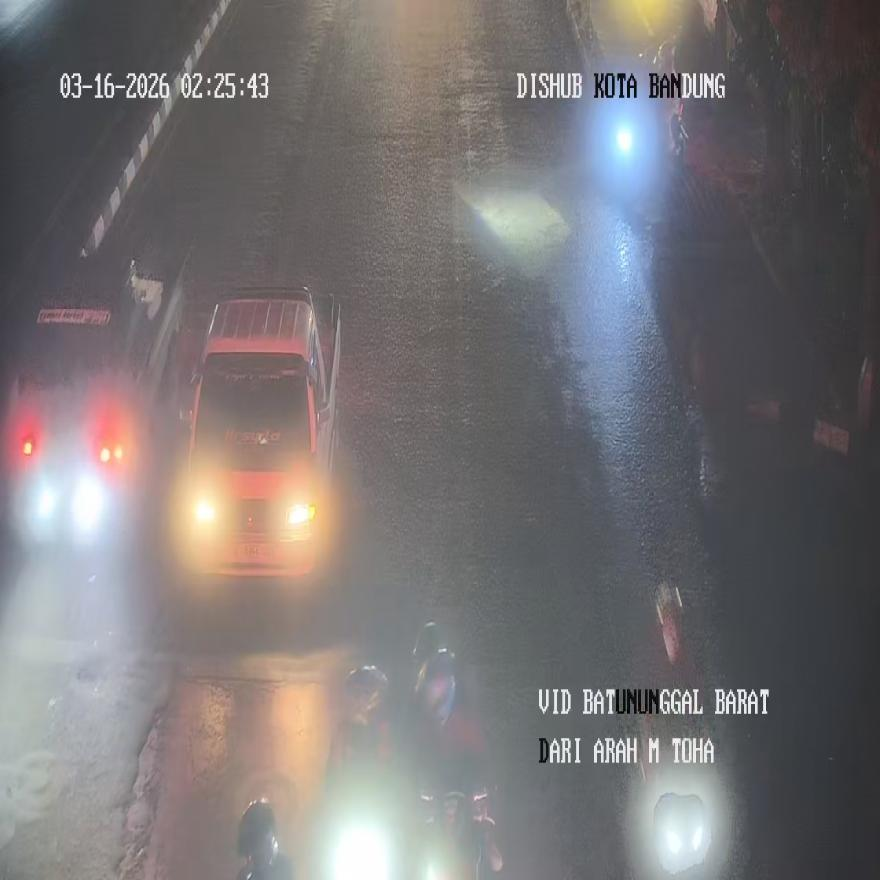Motor: (2, 240, 191, 548), (174, 285, 340, 589)
Truk: (649, 771, 713, 868), (236, 797, 294, 880), (598, 108, 640, 171)
